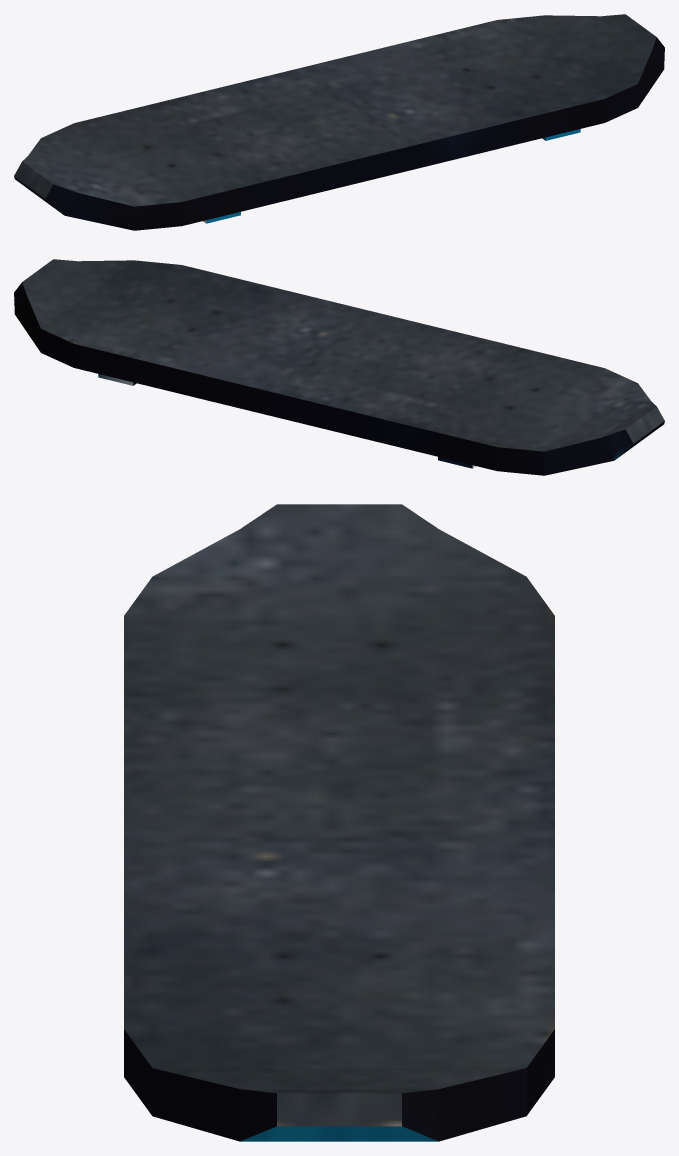
The model's file is skateboard.glb.
The picture shows the model from 3 angles, top to bottom: view 1: azimuth 30°, elevation 25°; view 2: azimuth 150°, elevation 25°; view 3: azimuth 270°, elevation 25°; orthographic projection. The views are drawn at different scales.
Visible parts, largest first — view 1: skatebaord; view 2: skatebaord; view 3: skatebaord.
Part boxes in pixels (left/top/right/bottom): skatebaord: left=14, top=14, right=664, bottom=230; skatebaord: left=14, top=259, right=664, bottom=475; skatebaord: left=124, top=504, right=554, bottom=1141.
Size of the model in its own units: 2.86 by 0.1738 by 0.8616.
1 material, 1 textured.
